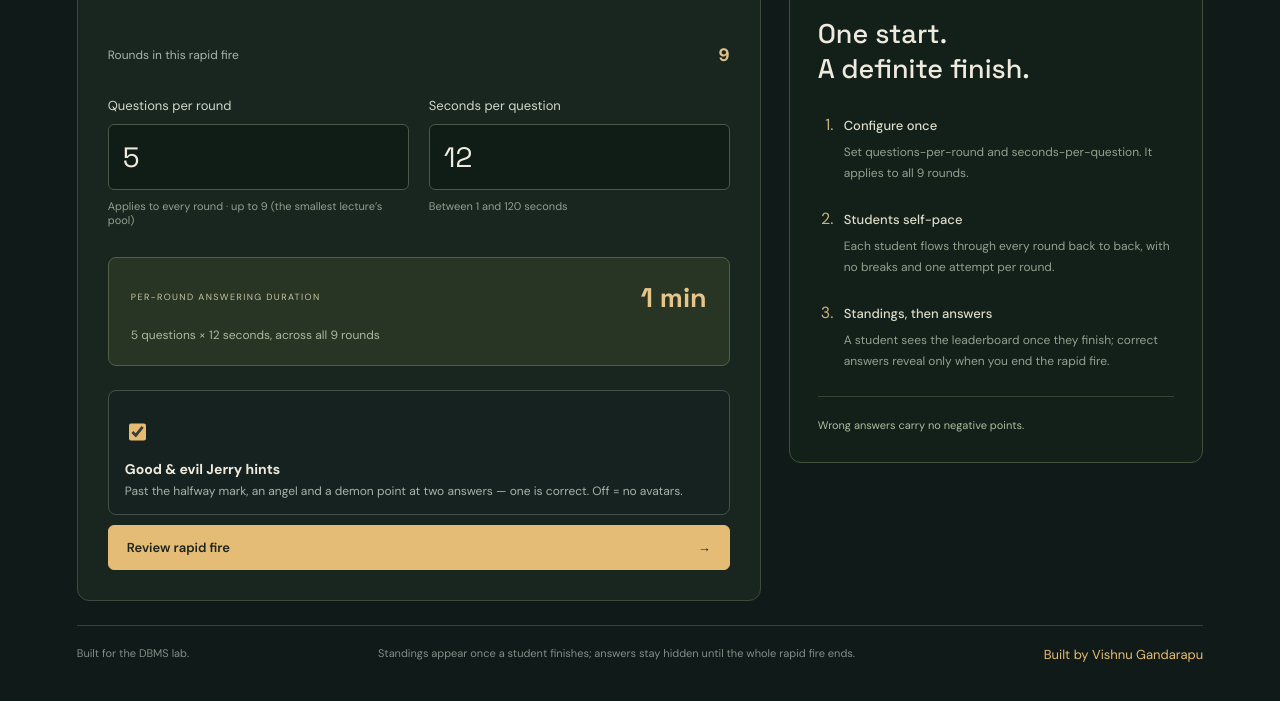
Instructor setup preview › starts every round at once after approval and shows the countdown
(page scrolled)
Click the button "Review rapid fire →".
click(178, 547)  # box [108, 525, 730, 570]
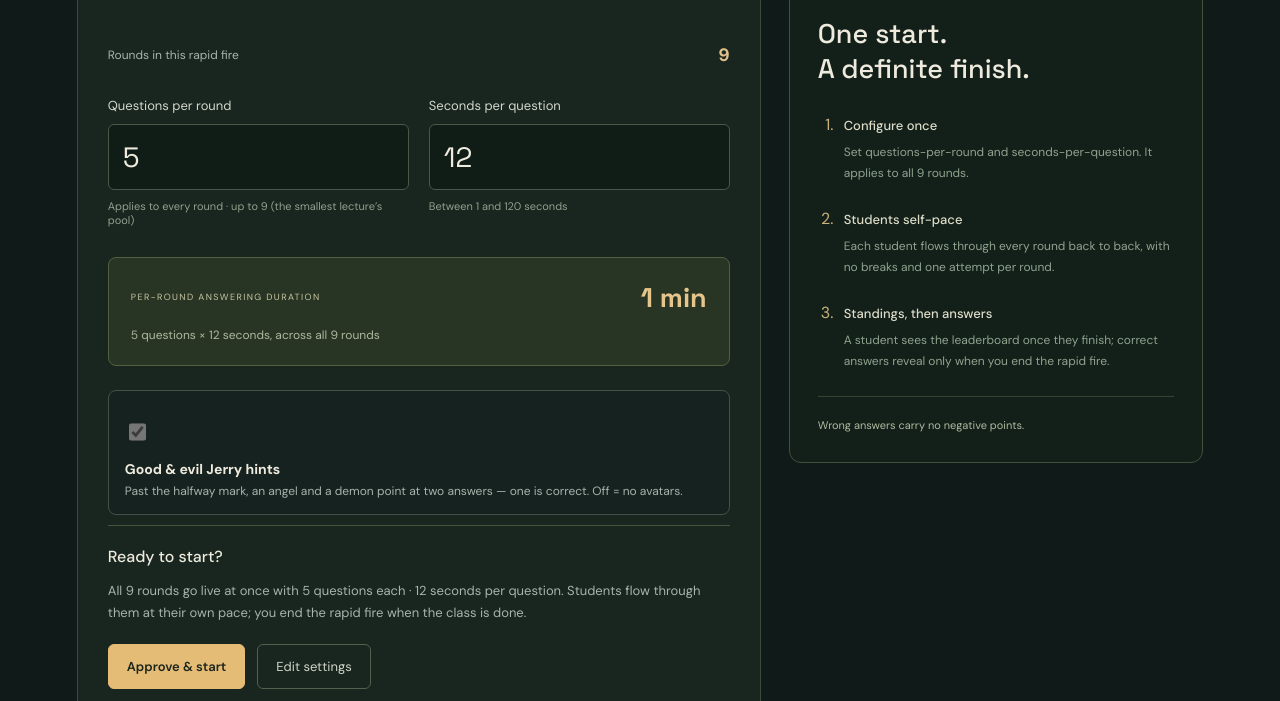
Now the heading "Ready to start?" is shown, box [108, 546, 223, 567]
Click the button "Approve & start".
click(177, 666)  # box [108, 644, 245, 689]
(page scrolled)
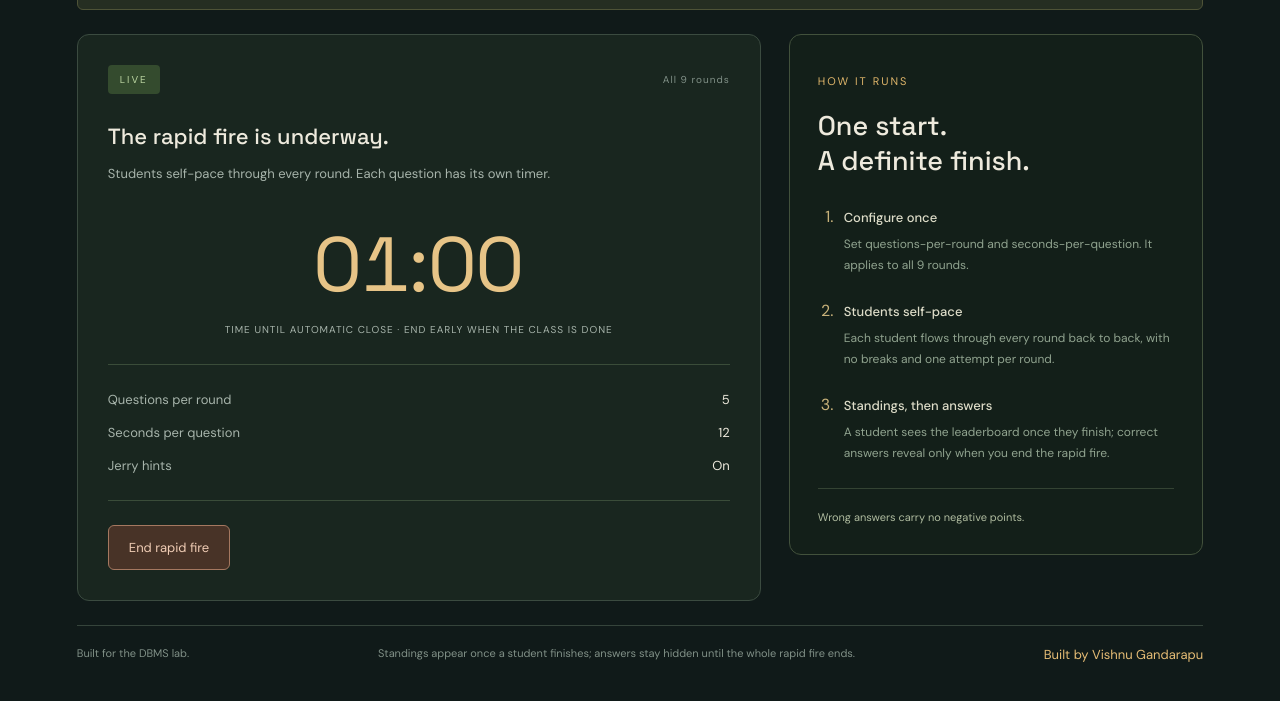
Now the text "LIVE" is shown, box [108, 65, 160, 94]
Now the heading "The rapid fire is underway." is shown, box [108, 122, 389, 150]
Now the text "01:00" is shown, box [314, 215, 524, 313]
